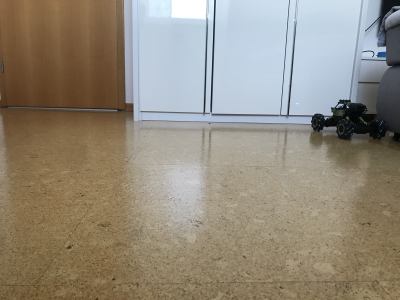remote control car: (309, 97, 387, 142)
